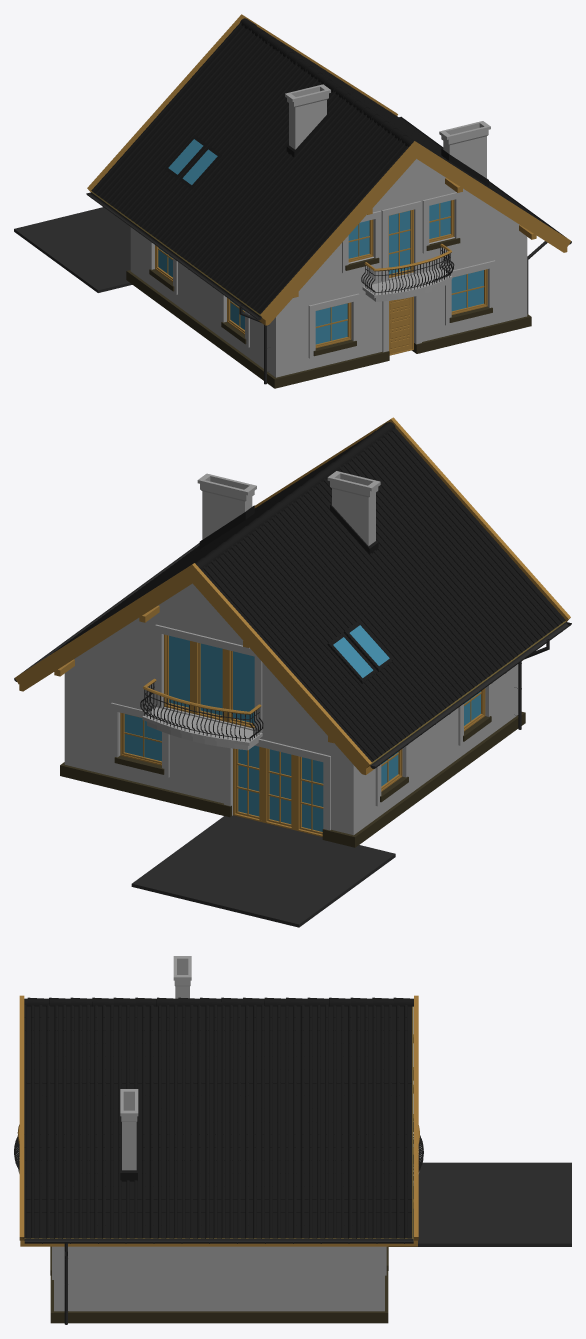
Rendered from Cyprys_House.obj.
3 renders of one model, top to bottom at view 1: azimuth 30°, elevation 25°; view 2: azimuth 150°, elevation 25°; view 3: azimuth 270°, elevation 25°, orthographic. The views are drawn at different scales.
Visible parts, largest first — view 1: roof_roof_metal_dark_brown, walls_walls_plaster_light_brown, boards_boards_wood_brown, cover_window_cover_window_plaster_sand, terrace_terrace_plate_grey, windows_windows_glass_window, foundation_foundation_foundation_brown_brick, chimneys_chimneys_plaster_light_brown, windows_windows_wood_brown, gutters_gutters_metal_grey, parapets_parapets_foundation_brown_brick, balcony_balcony_plaster_light_brown (+5 smaller); view 2: roof_roof_metal_dark_brown, walls_walls_plaster_light_brown, terrace_terrace_plate_grey, windows_windows_glass_window, boards_boards_wood_brown, windows_windows_wood_brown, cover_window_cover_window_plaster_sand, foundation_foundation_foundation_brown_brick, chimneys_chimneys_plaster_light_brown, balcony_balcony_plaster_light_brown, gutters_gutters_metal_grey, barrels_barrels_metal_grey (+4 smaller); view 3: roof_roof_metal_dark_brown, walls_walls_plaster_light_brown, terrace_terrace_plate_grey, foundation_foundation_foundation_brown_brick, boards_boards_wood_brown, gutters_gutters_metal_grey, chimneys_chimneys_plaster_light_brown, roof_support_roof_support_wood_balls_brown.
Boxes of the visible parts, box(x1,y1,x2,y2) form: roof_roof_metal_dark_brown: box(91, 18, 540, 314); walls_walls_plaster_light_brown: box(130, 159, 527, 377); boards_boards_wood_brown: box(87, 14, 570, 325); cover_window_cover_window_plaster_sand: box(148, 192, 495, 358); terrace_terrace_plate_grey: box(14, 207, 132, 292); windows_windows_glass_window: box(158, 200, 483, 344); foundation_foundation_foundation_brown_brick: box(126, 270, 531, 388); chimneys_chimneys_plaster_light_brown: box(285, 84, 490, 178); windows_windows_wood_brown: box(155, 200, 487, 348); gutters_gutters_metal_grey: box(86, 116, 571, 384); parapets_parapets_foundation_brown_brick: box(149, 238, 492, 356); balcony_balcony_plaster_light_brown: box(362, 268, 452, 301); roof_roof_metal_dark_brown: box(50, 422, 565, 761); walls_walls_plaster_light_brown: box(64, 583, 518, 835); terrace_terrace_plate_grey: box(131, 815, 395, 927); windows_windows_glass_window: box(124, 635, 480, 831); boards_boards_wood_brown: box(15, 417, 570, 774); windows_windows_wood_brown: box(120, 634, 485, 836); cover_window_cover_window_plaster_sand: box(111, 624, 492, 830); foundation_foundation_foundation_brown_brick: box(60, 712, 525, 847); chimneys_chimneys_plaster_light_brown: box(197, 471, 380, 545); balcony_balcony_plaster_light_brown: box(142, 707, 262, 750); gutters_gutters_metal_grey: box(14, 543, 571, 768); barrels_barrels_metal_grey: box(140, 683, 263, 741); roof_roof_metal_dark_brown: box(23, 997, 413, 1238); walls_walls_plaster_light_brown: box(54, 1246, 384, 1311); terrace_terrace_plate_grey: box(389, 1162, 571, 1246); foundation_foundation_foundation_brown_brick: box(50, 1271, 388, 1323); boards_boards_wood_brown: box(19, 995, 418, 1246); gutters_gutters_metal_grey: box(24, 1239, 413, 1324); chimneys_chimneys_plaster_light_brown: box(120, 956, 191, 1170); roof_support_roof_support_wood_balls_brown: box(24, 1006, 413, 1240).
Bounding box in the file's own units: 12.01 × 8.48 × 16.02.
